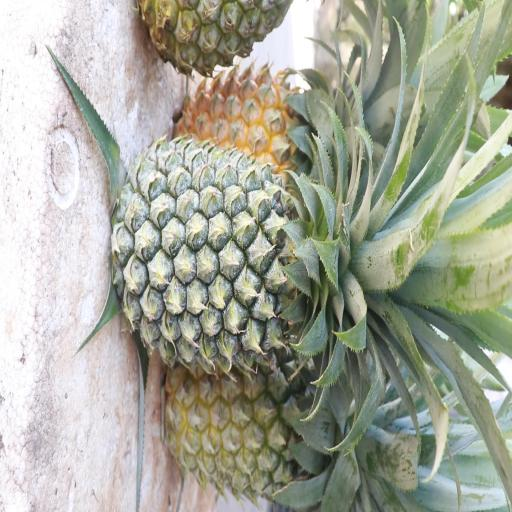------------------------------: (165, 350, 356, 499)
Pineapple - v8 v1: (180, 47, 334, 170)
